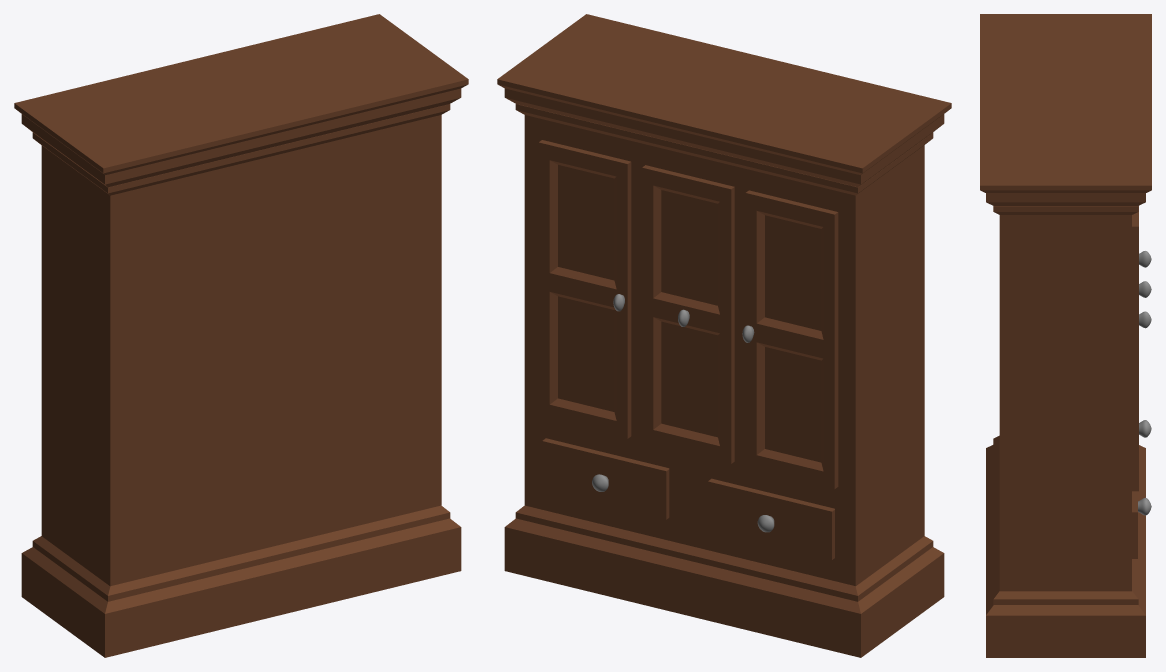
Rendered from Armoire2_5.fbx.
The picture shows the model from 3 angles, left to right: view 1: azimuth 30°, elevation 25°; view 2: azimuth 150°, elevation 25°; view 3: azimuth 270°, elevation 25°; orthographic projection. The views are drawn at different scales.
Visible parts, largest first — view 1: pCube2388, pCube2389, pCube2386, pCube2385, pCube2387, pCube2390; view 2: pCube2388, pCube2389, pCube2424, pCube2420, pCube2423, pCube2386, pCube2385, pCube2406, pCube2414, pCube2387, pCube2390; view 3: pCube2388, pCube2389, pCube2386, pCube2385, pCube2387, pCube2420, pCube2390, pCube2406.
Boxes of the visible parts, bbox=[...] form: pCube2388: bbox=[41, 115, 441, 586]; pCube2389: bbox=[14, 14, 468, 174]; pCube2386: bbox=[21, 518, 461, 657]; pCube2385: bbox=[32, 505, 450, 601]; pCube2387: bbox=[21, 88, 461, 187]; pCube2390: bbox=[32, 104, 450, 195]; pCube2388: bbox=[524, 115, 924, 586]; pCube2389: bbox=[497, 14, 951, 174]; pCube2424: bbox=[745, 190, 838, 489]; pCube2420: bbox=[538, 140, 631, 438]; pCube2423: bbox=[642, 165, 734, 463]; pCube2386: bbox=[504, 518, 944, 657]; pCube2385: bbox=[515, 505, 933, 601]; pCube2406: bbox=[542, 438, 669, 519]; pCube2414: bbox=[708, 478, 834, 559]; pCube2387: bbox=[504, 88, 944, 187]; pCube2390: bbox=[515, 104, 933, 195]; pCube2388: bbox=[999, 215, 1131, 591]; pCube2389: bbox=[980, 14, 1151, 192]; pCube2386: bbox=[986, 445, 1145, 657]; pCube2385: bbox=[993, 435, 1138, 604]; pCube2387: bbox=[986, 193, 1145, 205]; pCube2420: bbox=[1132, 206, 1138, 491]; pCube2390: bbox=[993, 206, 1138, 214]; pCube2406: bbox=[1132, 491, 1137, 558].
Size of the model in its own units: 91.48 by 118 by 38.7.
